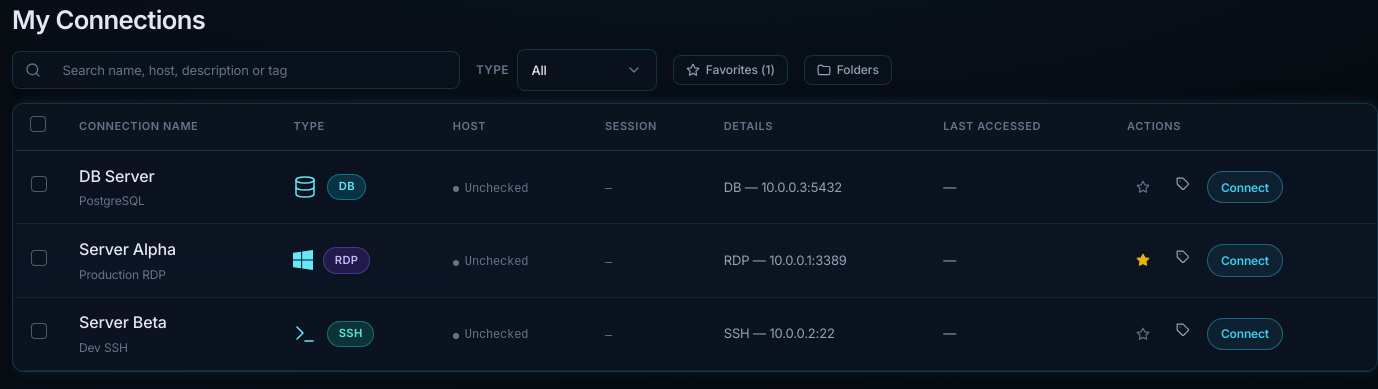
Test: Dashboard › filters to show only favorites
This screenshot has width=1378, height=389.
Expected: the text "Server Alpha" is shown, [79, 239, 176, 259]
# Click favorites toggle
Click the button titled "Show favorites only": (730,70) [673, 54, 788, 85]
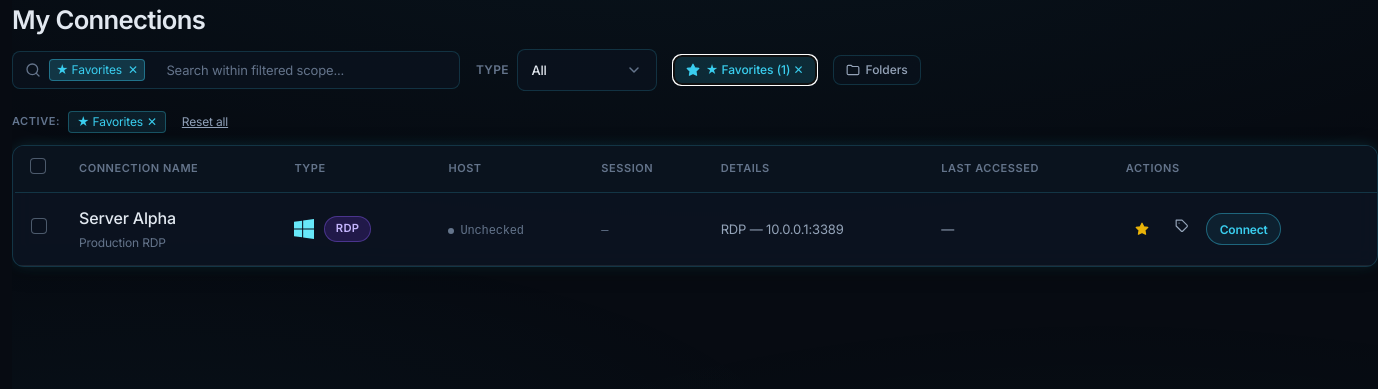
Expected: the text "Server Alpha" is shown, [79, 208, 176, 228]
Expected: the text "Server Beta" is gone
